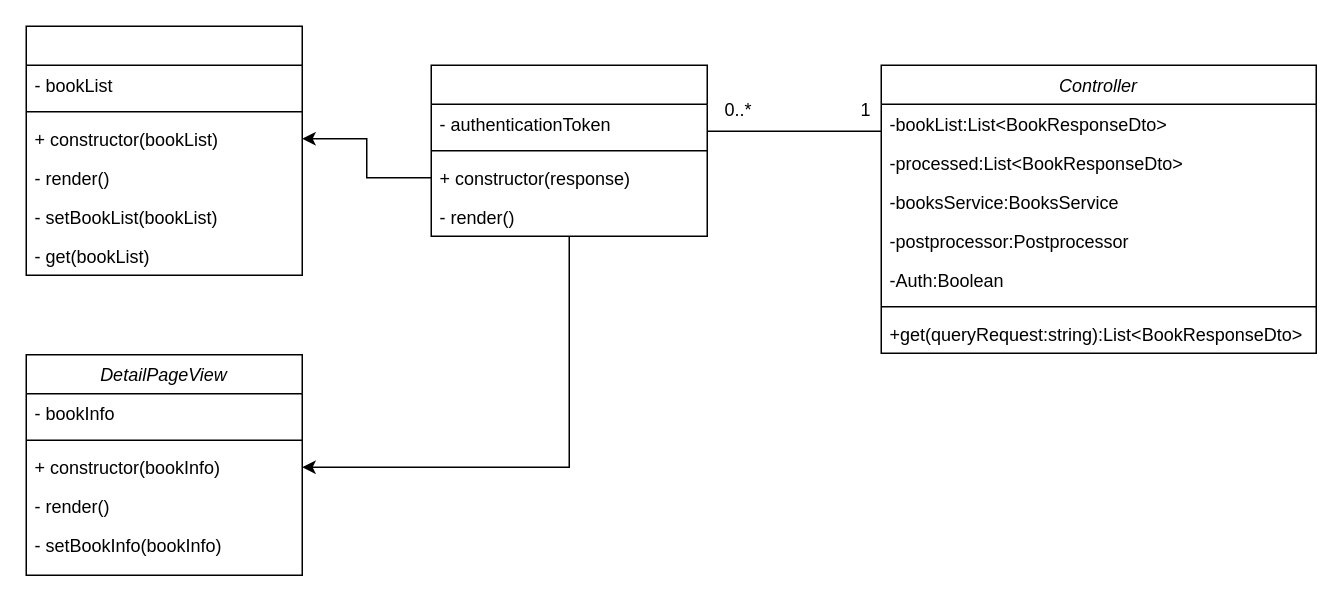
The diagram is 1343 pixels wide and 602 high, and some of its shapes have lost their labels. The box of each missing label's shape, as (x1, y1, x2, y2) in pixels:
SearchPageView: (25, 25, 302, 275)
ViewController: (430, 64, 707, 236)
